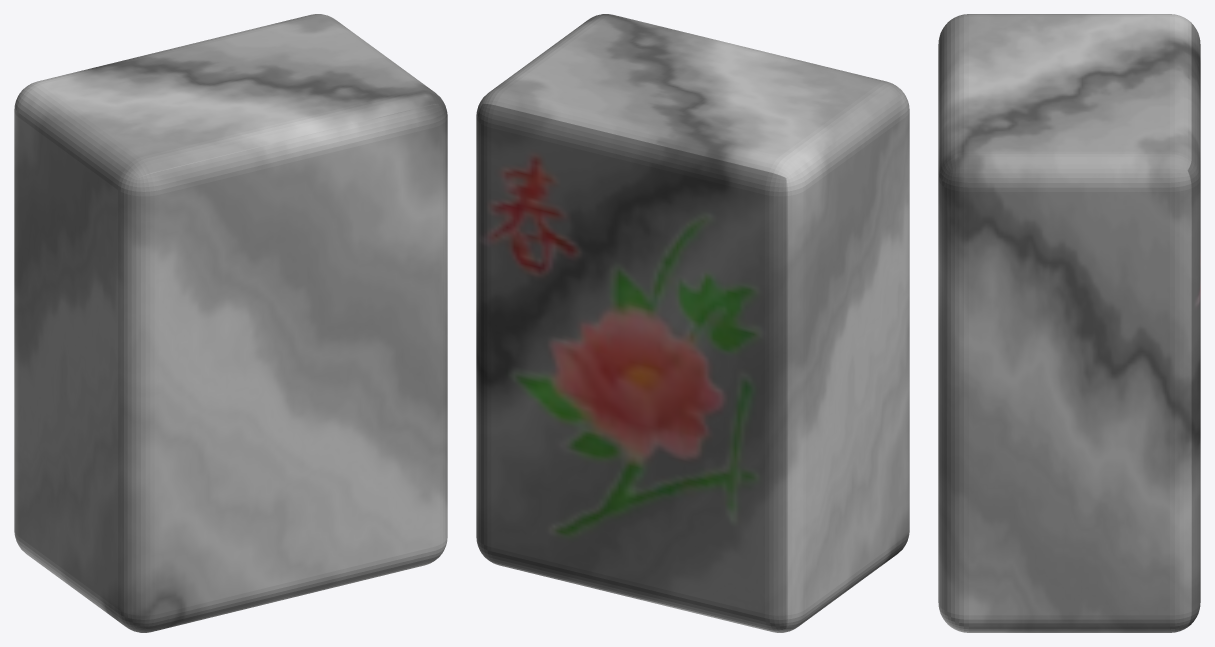
The model's file is flower5.fbx.
3 renders of one model, left to right at view 1: azimuth 30°, elevation 25°; view 2: azimuth 150°, elevation 25°; view 3: azimuth 270°, elevation 25°, orthographic.
Visible parts, largest first — view 1: flower5; view 2: flower5; view 3: flower5.
Part boxes in pixels (left/top/right/bottom): flower5: left=14, top=14, right=447, bottom=632; flower5: left=476, top=14, right=909, bottom=632; flower5: left=938, top=14, right=1200, bottom=632.
Bounding box in the file's own units: 100 × 139 × 69.
1 material, 1 textured.
